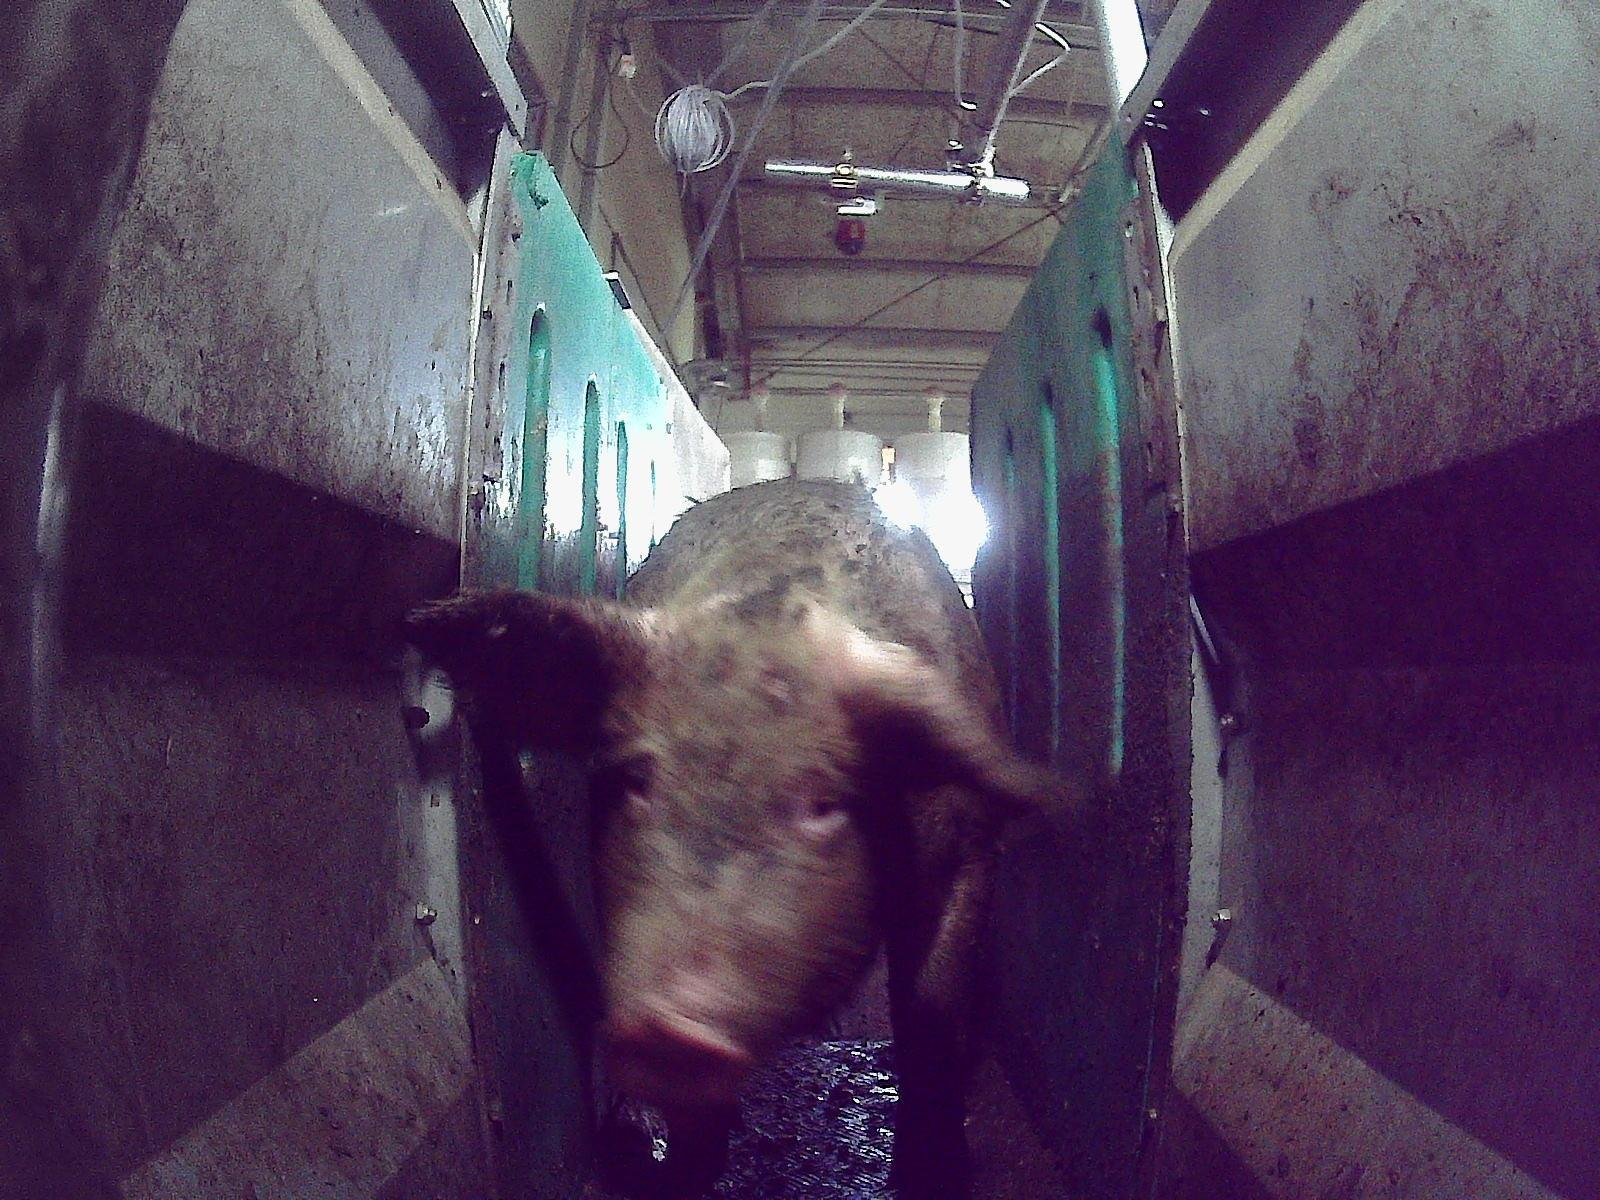Face: (584, 609, 880, 1104)
